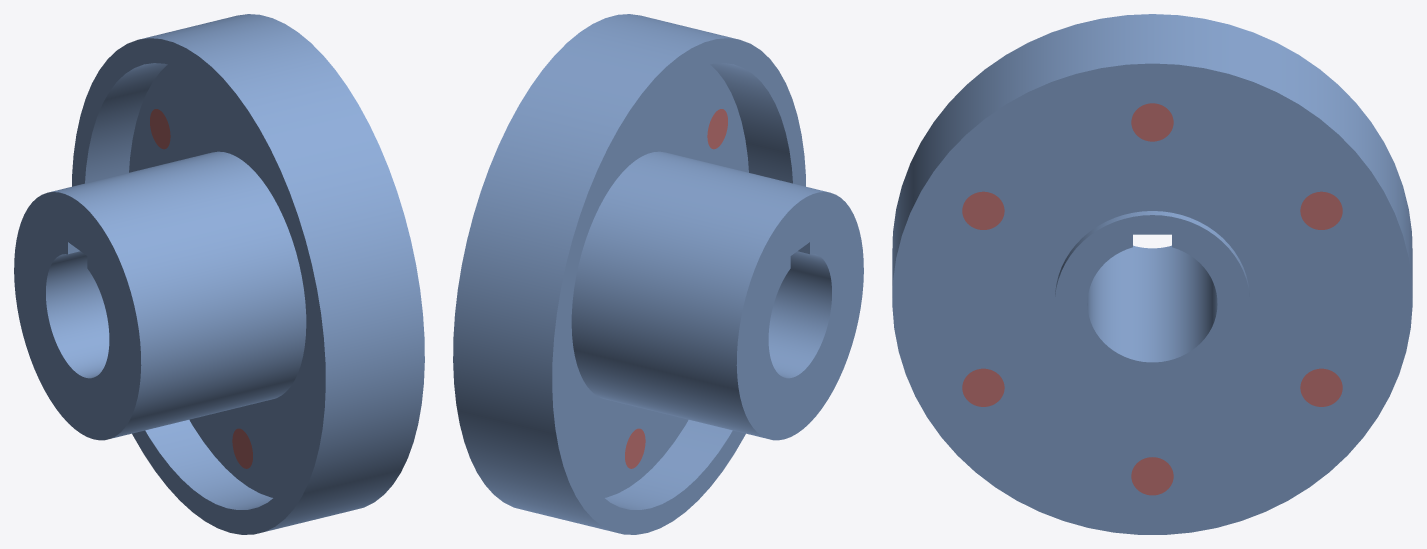
File: step_06.glb
3 views of the same model, side by side, from view 1: azimuth 30°, elevation 25°; view 2: azimuth 150°, elevation 25°; view 3: azimuth 270°, elevation 25° (orthographic). The views are drawn at different scales.
Parts seen in each view (by area): view 1: part__flange A (spigot), removed__flange A (spigot); view 2: part__flange A (spigot), removed__flange A (spigot); view 3: part__flange A (spigot), removed__flange A (spigot).
Part boxes in pixels (left/top/right/bottom): part__flange A (spigot): left=14, top=14, right=424, bottom=534; removed__flange A (spigot): left=150, top=109, right=252, bottom=468; part__flange A (spigot): left=453, top=14, right=863, bottom=534; removed__flange A (spigot): left=625, top=109, right=727, bottom=468; part__flange A (spigot): left=892, top=14, right=1412, bottom=534; removed__flange A (spigot): left=962, top=103, right=1342, bottom=495.
Size of the model in its own units: 83 by 160 by 160.
